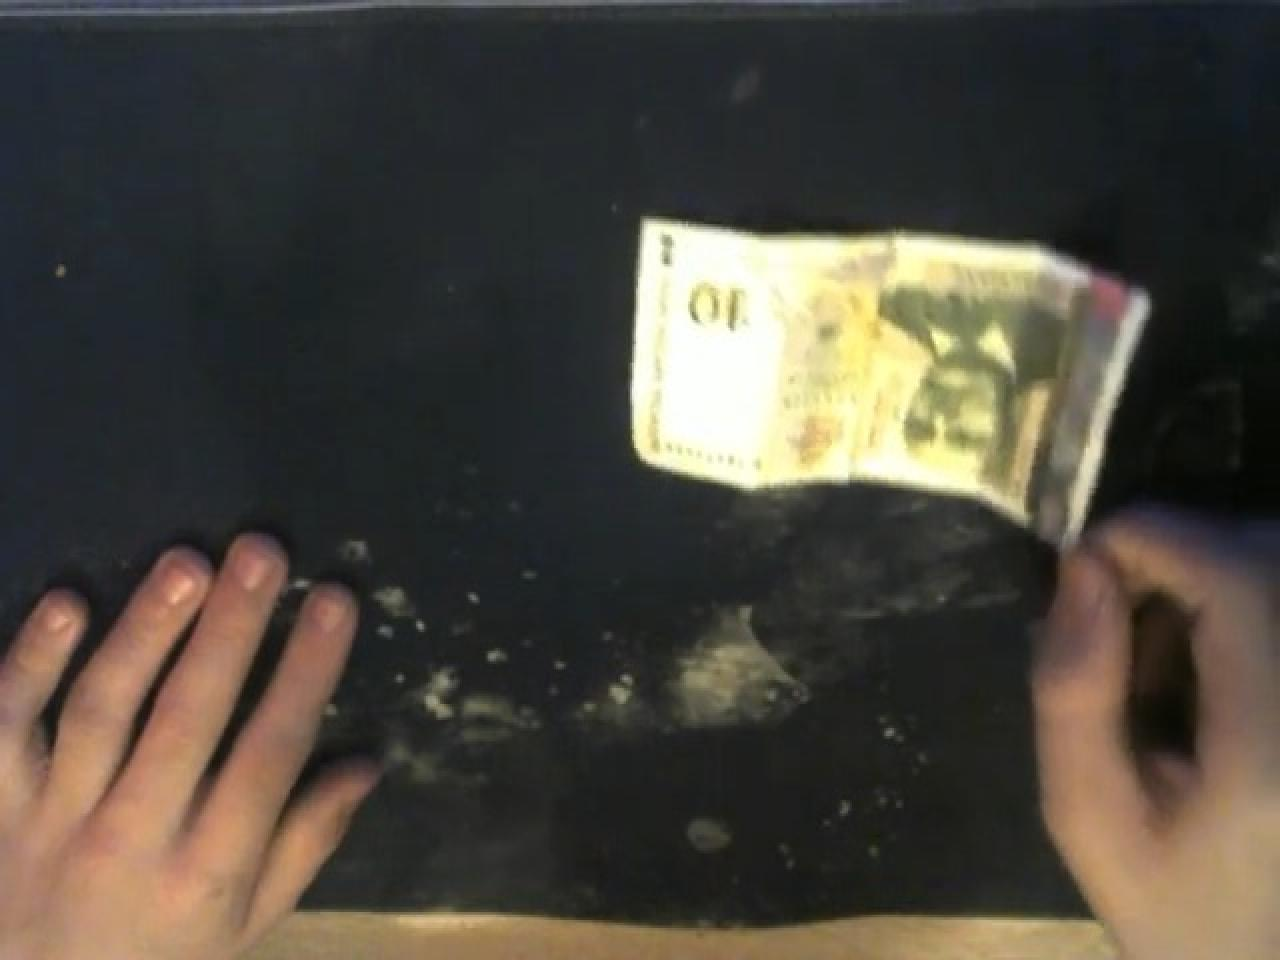10leva: (626, 211, 1156, 550)
